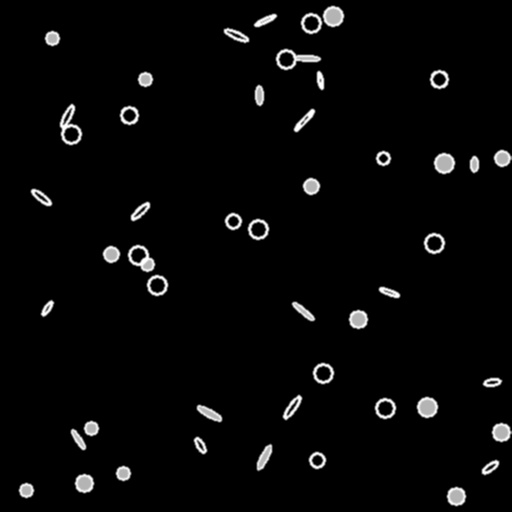pseudomonas: (292, 108, 316, 132), (282, 395, 302, 419), (291, 301, 315, 321), (196, 404, 222, 422), (255, 444, 273, 470), (30, 187, 52, 207), (223, 27, 249, 43), (130, 201, 150, 221), (69, 428, 87, 450), (59, 104, 75, 128), (254, 13, 276, 27), (481, 459, 499, 475), (378, 286, 400, 298), (193, 436, 207, 454), (40, 300, 54, 316), (483, 377, 501, 387), (295, 55, 319, 61), (316, 72, 324, 88), (256, 85, 262, 105), (471, 156, 477, 172)
synechocystis: (324, 7, 342, 25), (129, 246, 147, 264), (302, 14, 320, 32), (277, 50, 295, 68), (418, 398, 436, 416), (148, 276, 166, 294), (314, 364, 332, 382), (249, 220, 267, 238), (435, 154, 453, 172), (376, 399, 394, 417), (62, 125, 80, 143), (425, 234, 443, 252), (448, 488, 464, 504), (350, 311, 366, 327), (431, 71, 447, 87), (76, 475, 92, 491), (493, 424, 509, 440), (121, 107, 137, 123), (104, 247, 118, 261), (226, 214, 240, 228), (310, 453, 324, 467), (304, 179, 318, 193), (495, 151, 509, 165), (141, 258, 153, 270), (85, 422, 97, 434), (46, 32, 58, 44), (117, 467, 129, 479), (20, 484, 32, 496), (377, 152, 389, 164), (139, 73, 151, 85)
